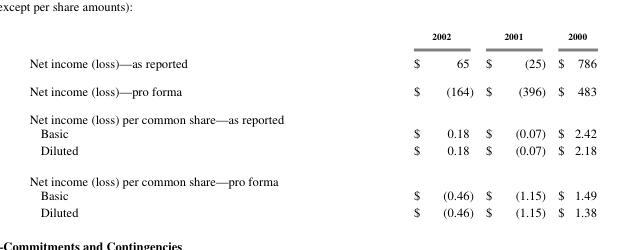table: (28, 29, 595, 219)
table column: (28, 29, 299, 219), (299, 29, 478, 219), (478, 29, 551, 219), (551, 29, 595, 219)
table column header: (28, 29, 595, 48)
table projected row header: (28, 164, 595, 186), (28, 104, 595, 125)
table row: (28, 48, 595, 76), (28, 76, 595, 104), (28, 140, 595, 164), (28, 164, 595, 186), (28, 104, 595, 125), (28, 29, 595, 48), (28, 202, 595, 219), (28, 186, 595, 202), (28, 125, 595, 140)
